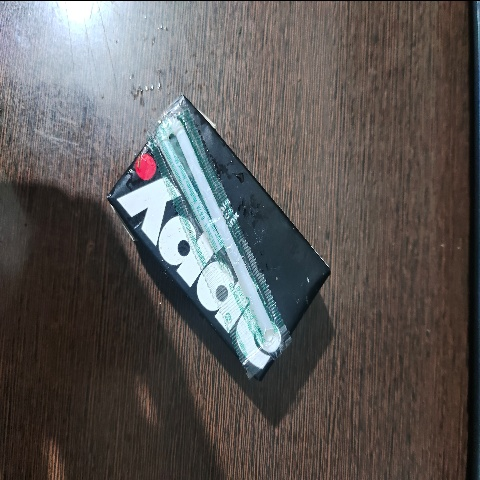appy: (90, 83, 338, 390)
